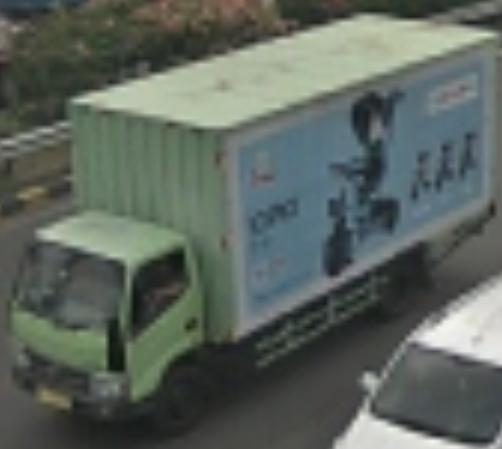truck: (1, 196, 220, 447)
